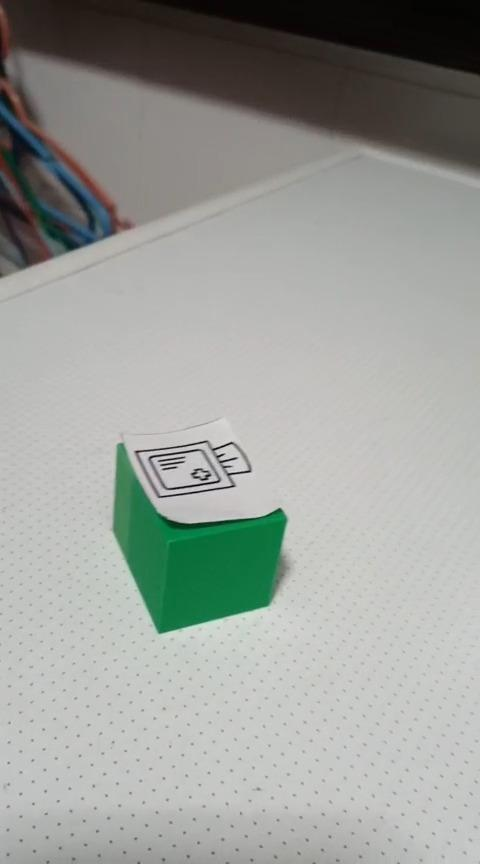Gauze: (111, 415, 288, 634)
